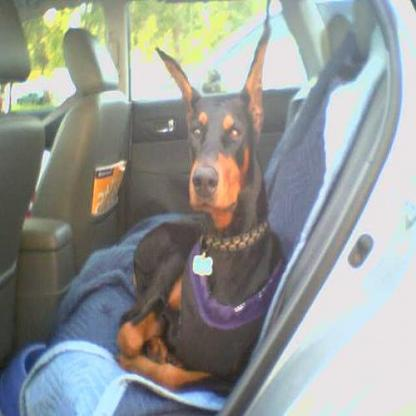Doberman: (115, 0, 284, 394)
